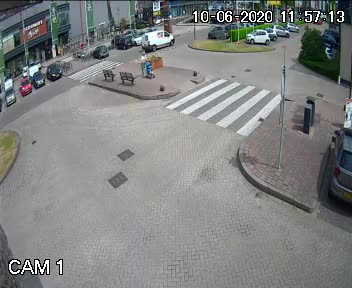car: (136, 30, 176, 52)
